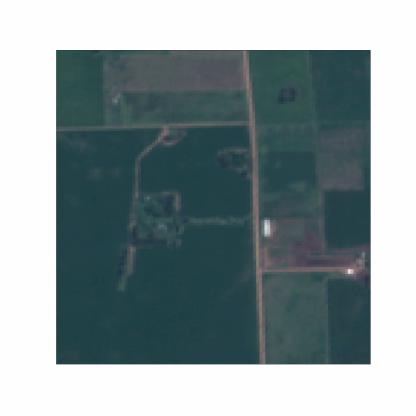silobolsa: (262, 216, 272, 242)
